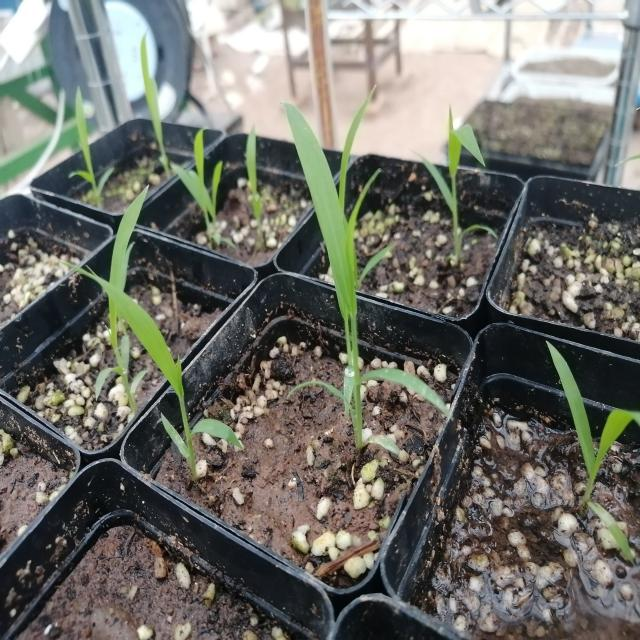crabgrass: (281, 90, 438, 437), (68, 223, 239, 445), (540, 336, 640, 539)
